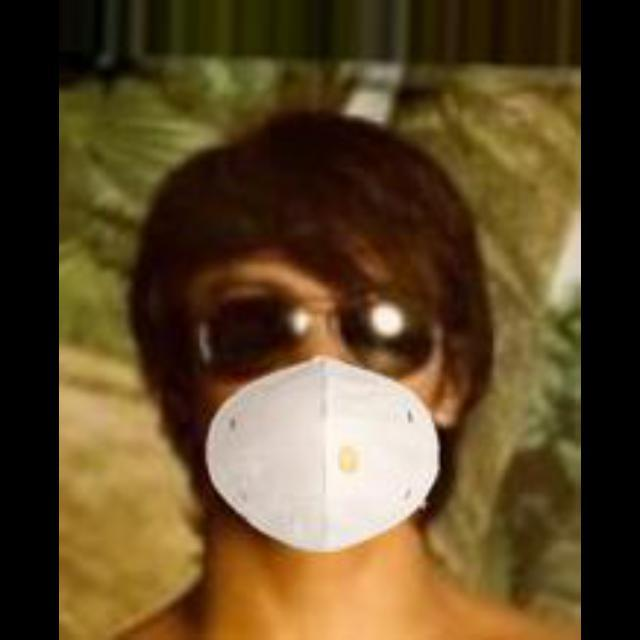suspicion: (152, 150, 500, 548)
